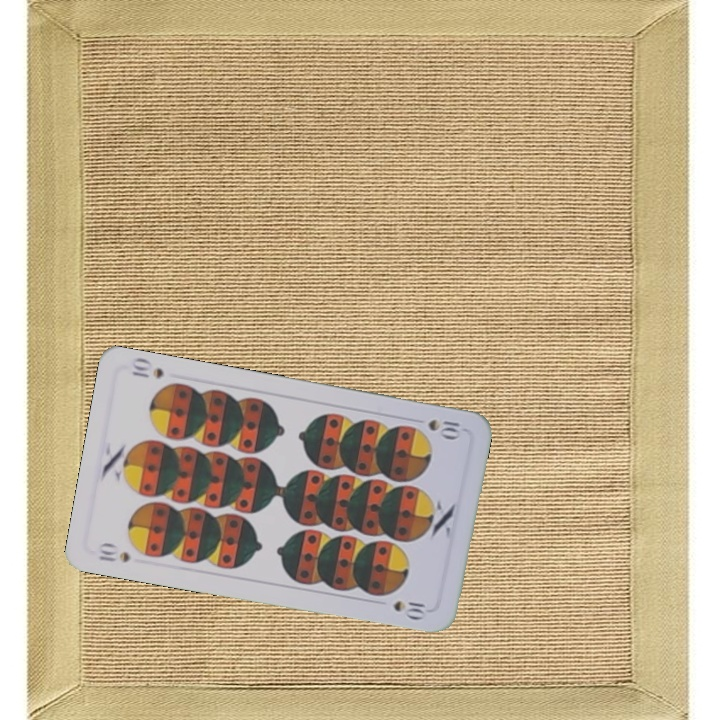S10: (424, 415, 465, 442), (95, 539, 133, 565)
